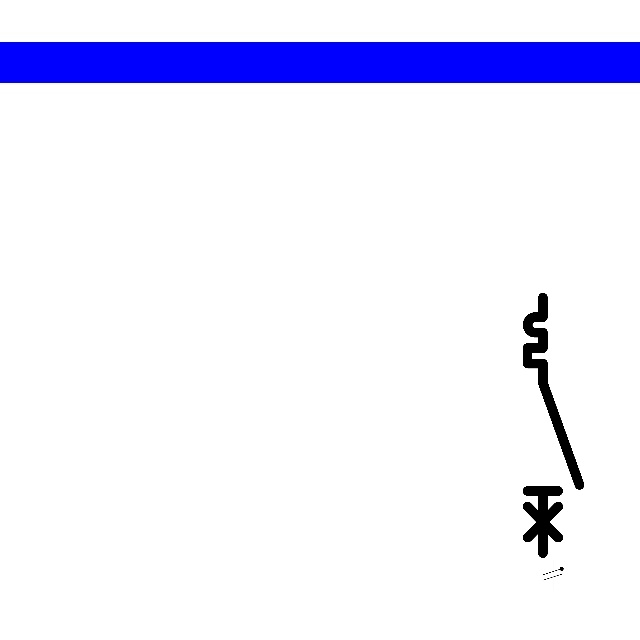interruptor_termomagnetico: (521, 291, 586, 559)
